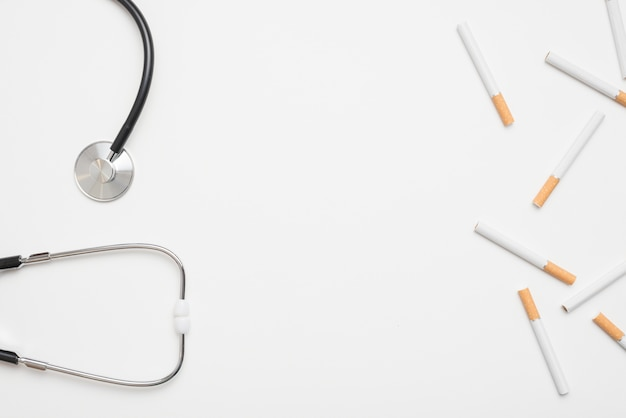cigarette: (531, 112, 605, 209), (473, 220, 578, 286), (456, 19, 515, 126), (517, 287, 570, 398), (542, 50, 626, 107), (560, 255, 626, 312), (602, 0, 626, 80), (590, 311, 626, 351)
